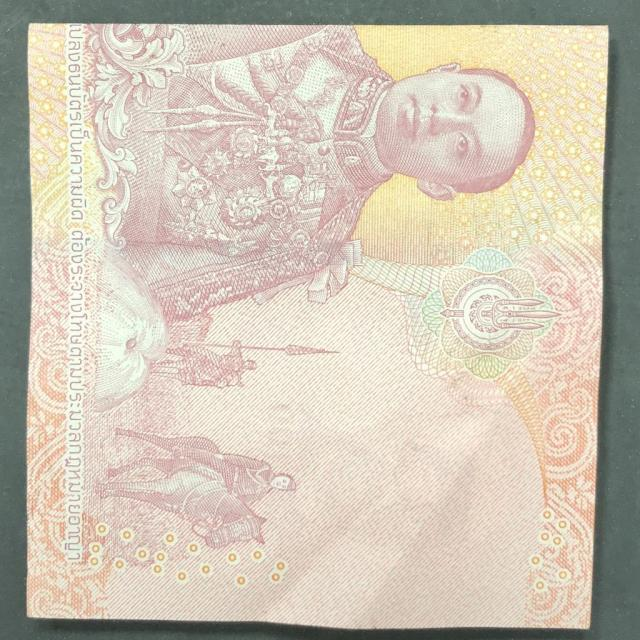THAI100: (26, 24, 609, 629)
